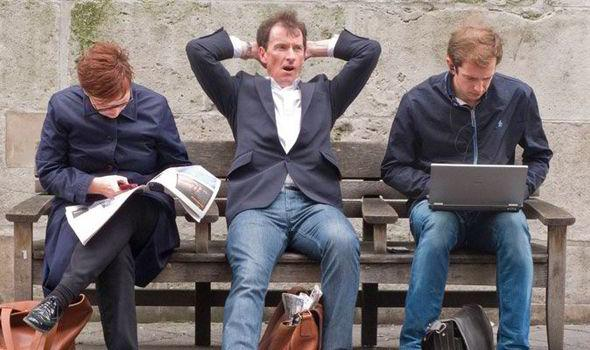Person: (178, 5, 377, 350), (379, 20, 565, 350), (19, 41, 195, 349)
